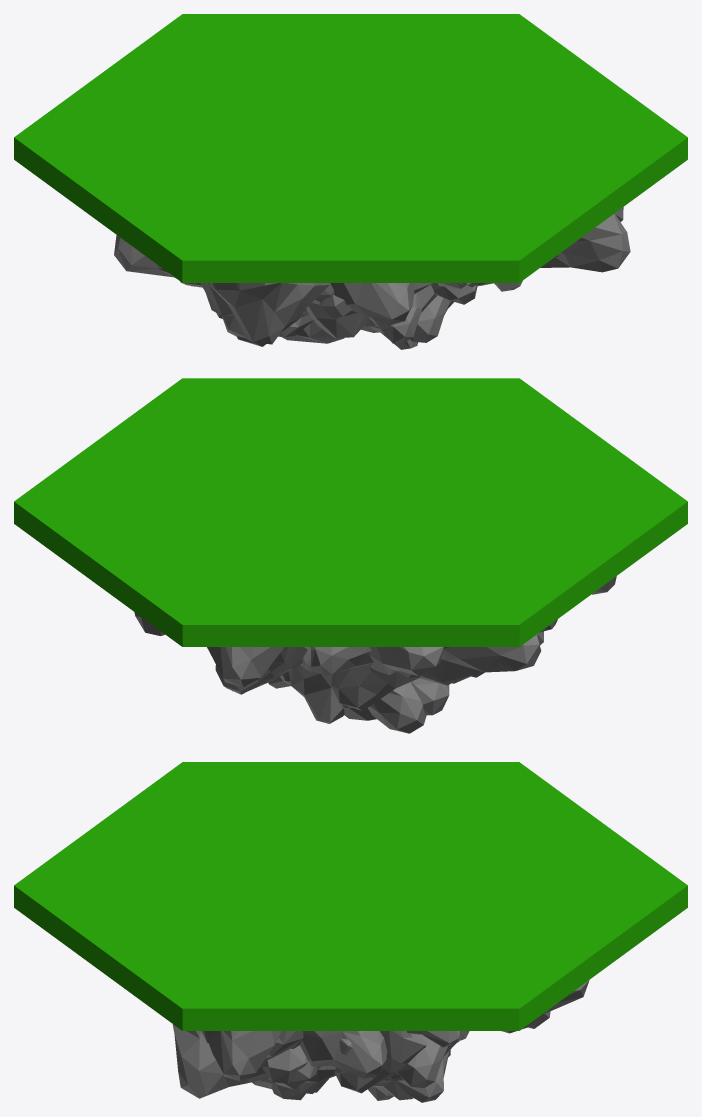
File: 2уйц.fbx
The picture shows the model from 3 angles, top to bottom: view 1: azimuth 30°, elevation 25°; view 2: azimuth 150°, elevation 25°; view 3: azimuth 270°, elevation 25°; orthographic projection.
Parts seen in each view (by area): view 1: Цилиндр, rock.001; view 2: Цилиндр, rock.001; view 3: Цилиндр, rock.001.
Part boxes in pixels (left/top/right/bottom): Цилиндр: left=14, top=14, right=687, bottom=282; rock.001: left=114, top=207, right=630, bottom=349; Цилиндр: left=14, top=378, right=687, bottom=646; rock.001: left=134, top=576, right=616, bottom=733; Цилиндр: left=14, top=762, right=687, bottom=1030; rock.001: left=172, top=980, right=589, bottom=1102.
Bounding box in the file's own units: 3178 × 1158 × 3670.
